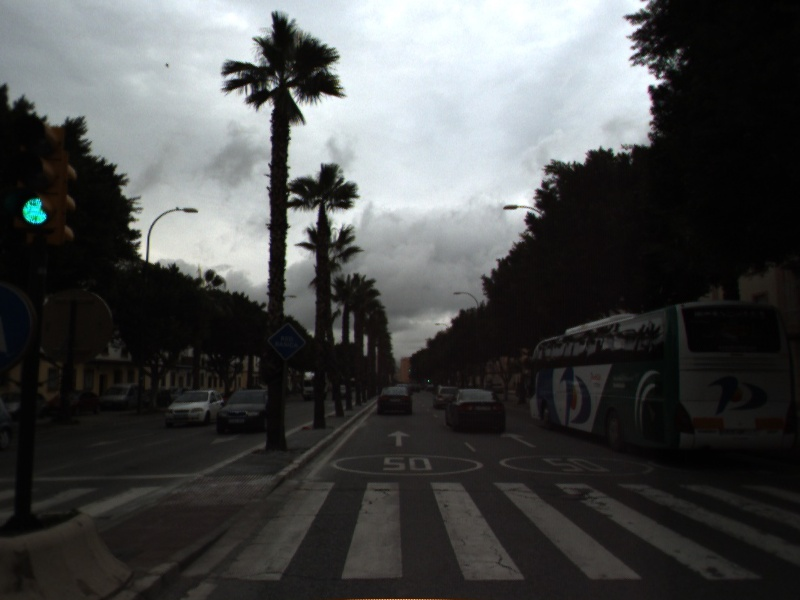STRAIGHT: (498, 430, 539, 450), (386, 428, 413, 448)
